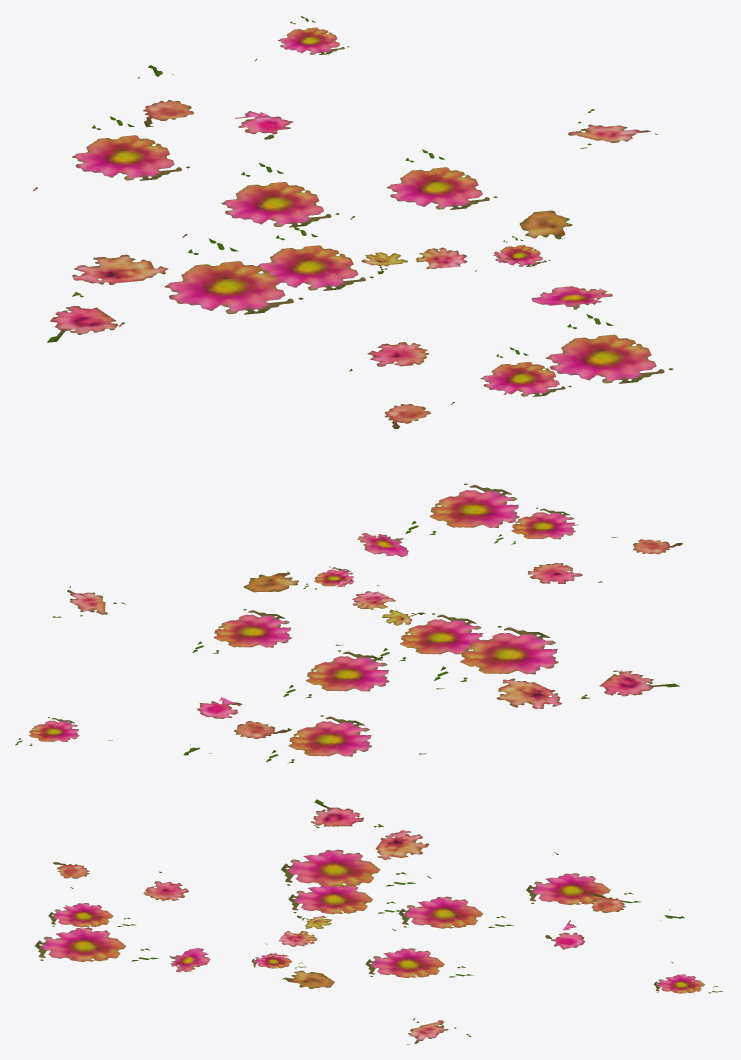
The model's file is 10101_glass05.FBX.
3 views of the same model, one above another, from view 1: azimuth 30°, elevation 25°; view 2: azimuth 150°, elevation 25°; view 3: azimuth 270°, elevation 25° (orthographic). The views are drawn at different scales.
Parts seen in each view (by area): view 1: 10101_glass05; view 2: 10101_glass05; view 3: 10101_glass05.
Part boxes in pixels (box(x1,y1,x2,y2)): 10101_glass05: box(33, 16, 672, 429); 10101_glass05: box(15, 483, 682, 763); 10101_glass05: box(35, 799, 722, 1044).
Size of the model in its own units: 136 by 2.58 by 162.
